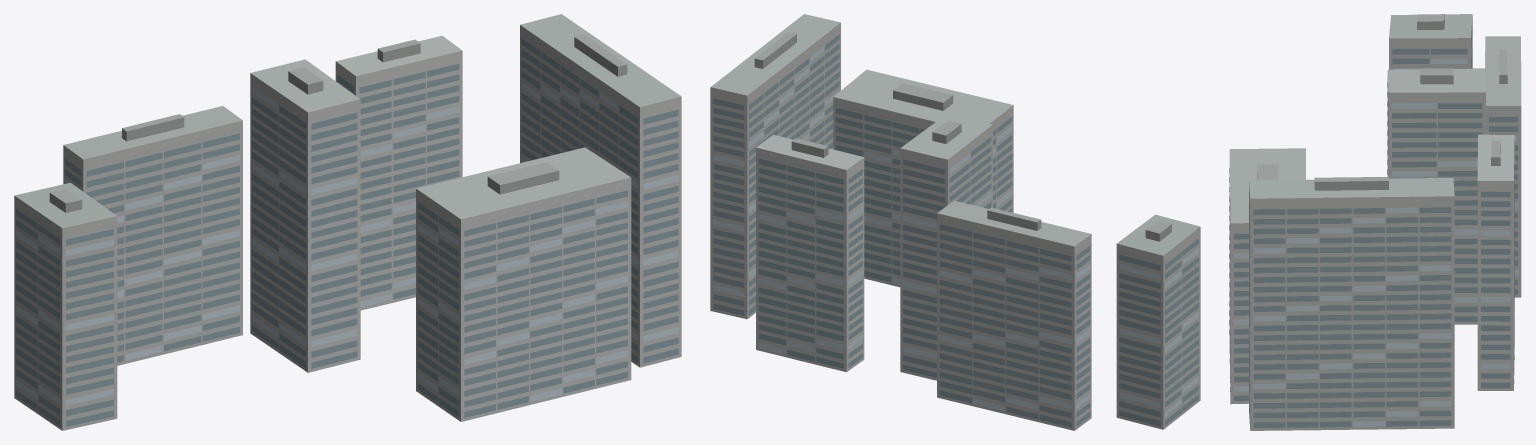
Rendered from apt-a13381604.glb.
3 views of the same model, side by side, from view 1: azimuth 30°, elevation 25°; view 2: azimuth 150°, elevation 25°; view 3: azimuth 270°, elevation 25° (orthographic). The views are drawn at different scales.
Parts seen in each view (by area): view 1: apt-a13381604; view 2: apt-a13381604; view 3: apt-a13381604.
Part boxes in pixels (x1,y1,x2,y2): apt-a13381604: [14, 14, 681, 430]; apt-a13381604: [710, 14, 1200, 430]; apt-a13381604: [1229, 14, 1521, 430].
Size of the model in its own units: 137 by 65 by 71.35.
